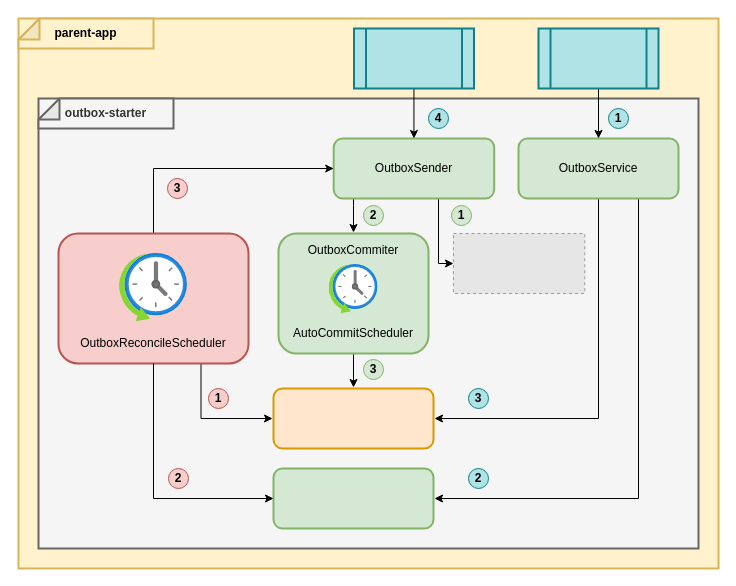
Some shapes in this 736 by 586 pixel diagram are drawn without their labels. Grey dashed boxes stand in for pictures. Here are the shapes that lost their labels. From the top down, the centre of each, then its label:
point 413,58: Post-Transactional logic
point 598,58: Transactional logic
point 353,418: OutboxRepository
point 353,498: TraceContextUtil
